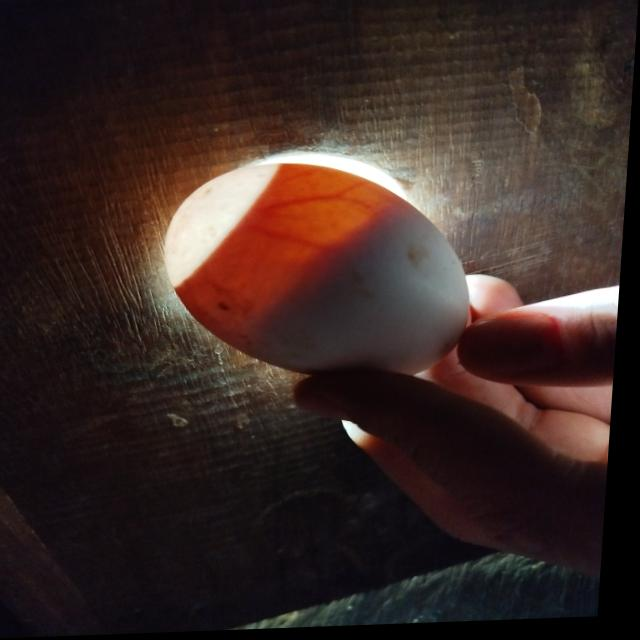Embriao: (266, 209, 472, 376)
